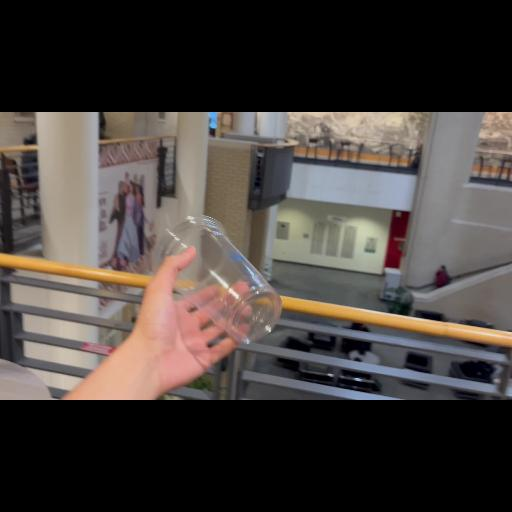lp_plastic_cup: (160, 216, 282, 344)
